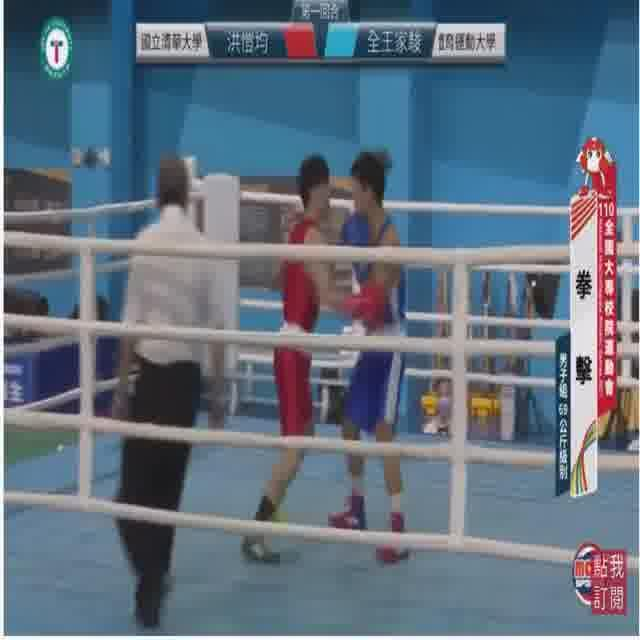blue-player: (327, 148, 414, 568)
red-player: (238, 152, 389, 566)
referee: (110, 156, 234, 635)
